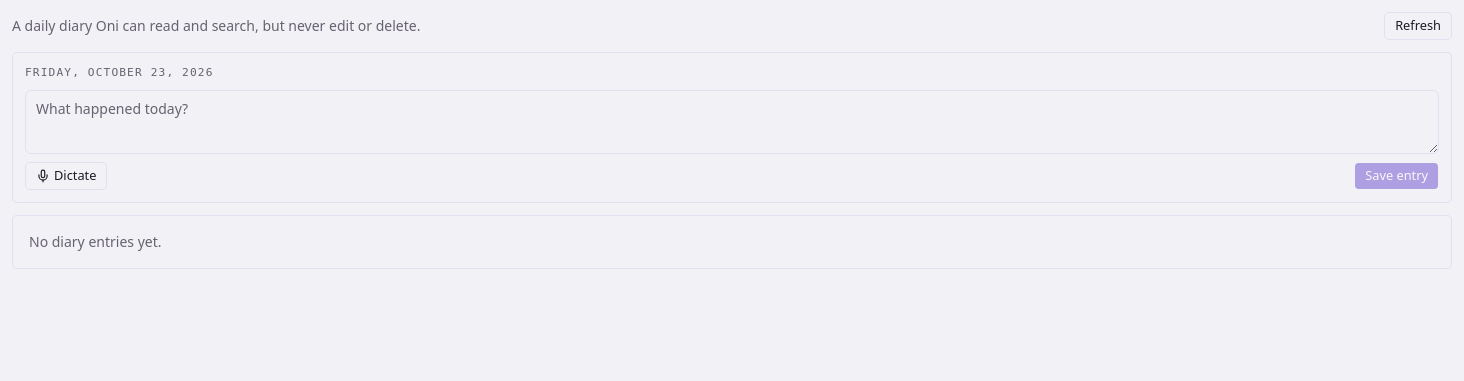
Test: JournalPanel › saves a new entry and disables Save again until the text changes
Expected: the text "No diary entries yet." is shown, [29,232,162,251]
In the text box with test id "journal-entry-input": coordinates (732, 122) [25,90,1439,154], type "First entry."
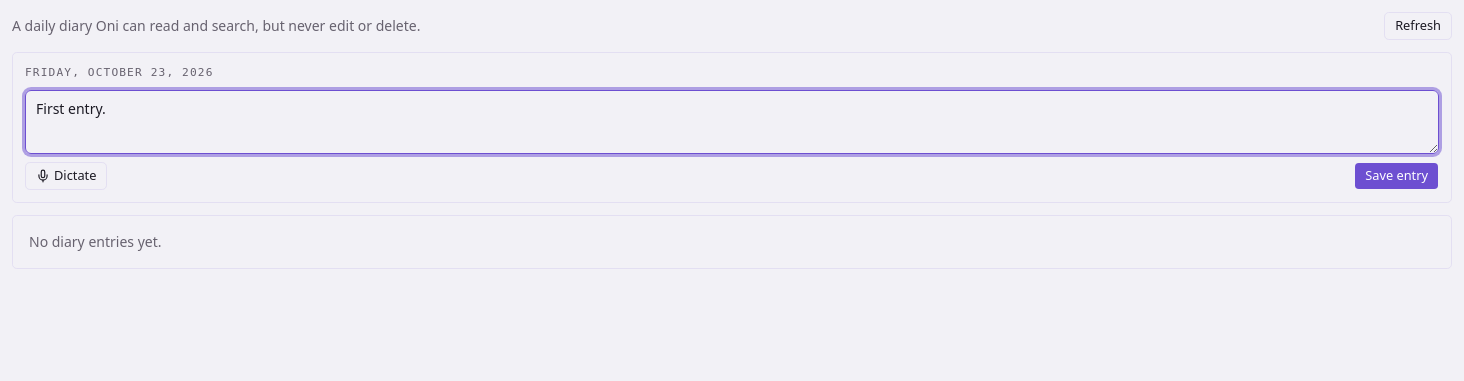
Click the button with test id "journal-save-button": coordinates (1397, 176) [1354,162,1439,190]
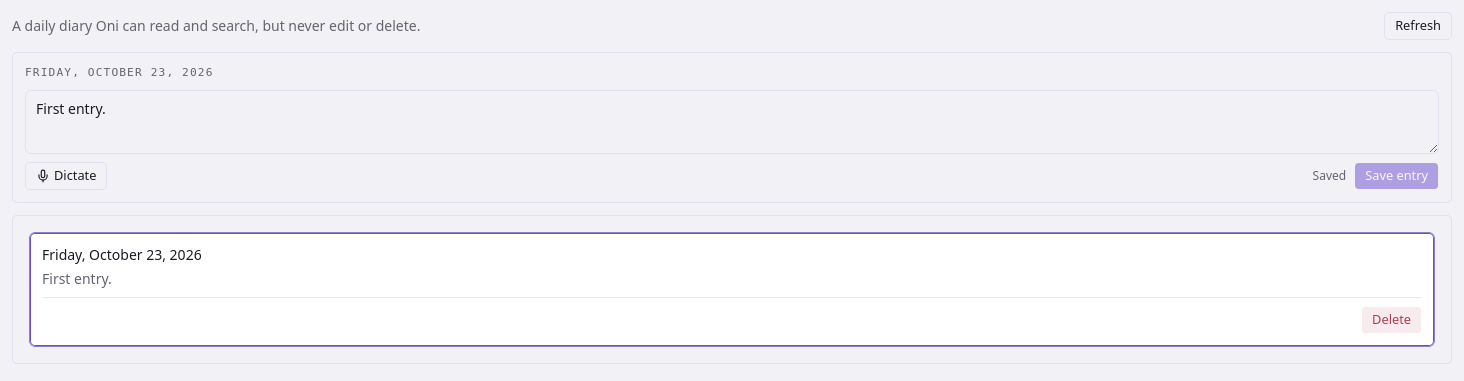
Now the text "Saved" is shown, box [1313,168,1346,184]
Now the button with test id "journal-save-button" is disabled, box [1354,162,1439,190]
